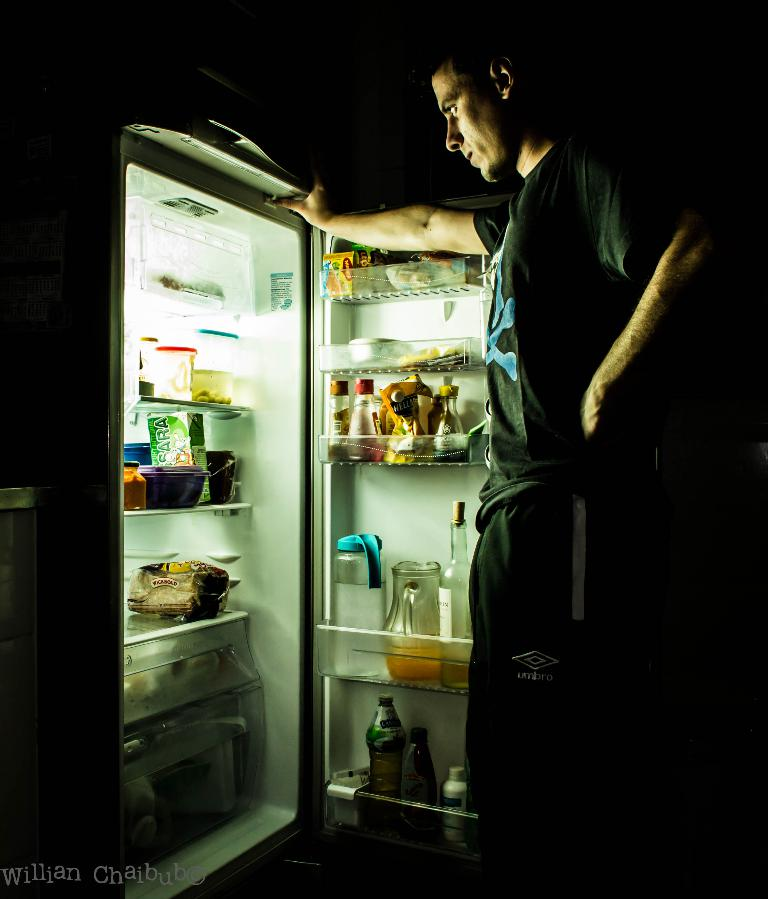refrigerator door: (326, 253, 477, 813)
